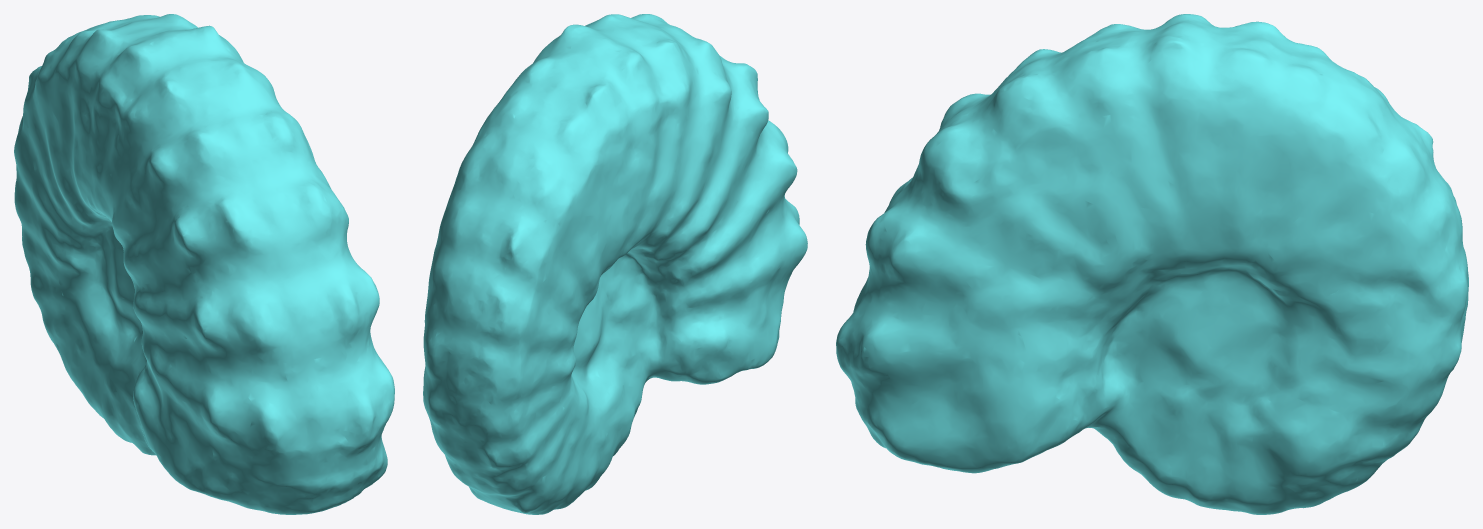
3 views of the same model, side by side, from view 1: azimuth 30°, elevation 25°; view 2: azimuth 150°, elevation 25°; view 3: azimuth 270°, elevation 25° (orthographic). The views are drawn at different scales.
Visible parts, largest first — view 1: Object_2; view 2: Object_2; view 3: Object_2.
Boxes of the visible parts, box(x1,y1,x2,y2) form: Object_2: box(14, 14, 394, 514); Object_2: box(423, 14, 807, 514); Object_2: box(836, 14, 1468, 514).
Size of the model in its own units: 0.3799 by 0.8273 by 1.
